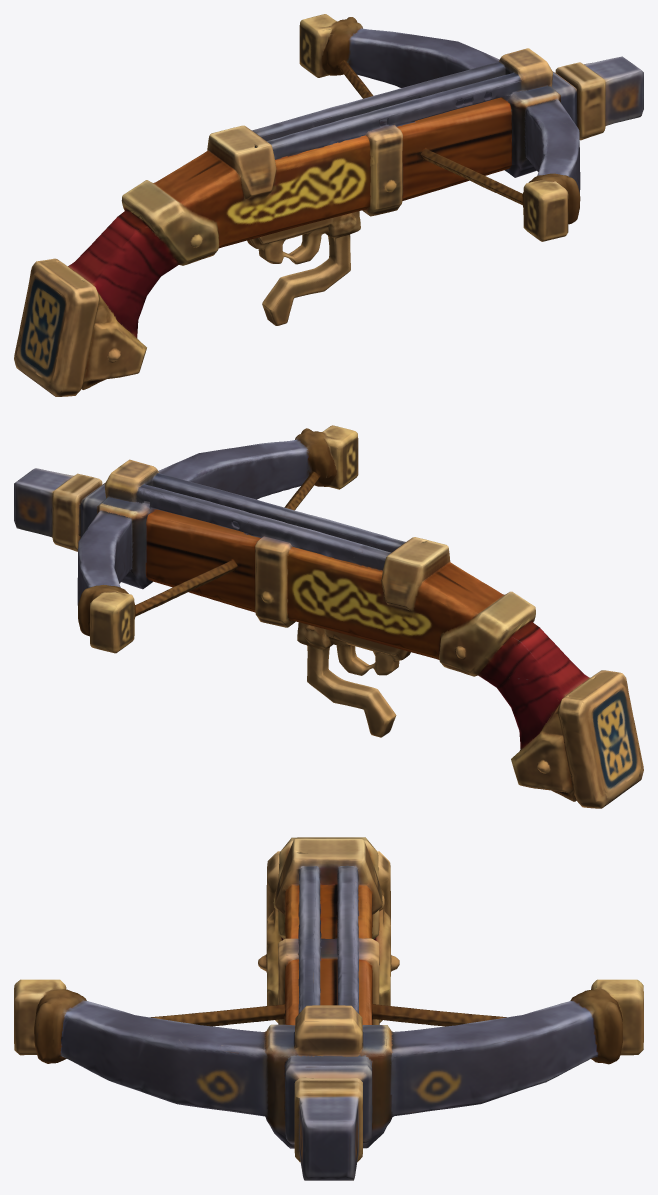
Rendered from 09_Siege_Crossbow.glb.
3 renders of one model, top to bottom at view 1: azimuth 30°, elevation 25°; view 2: azimuth 150°, elevation 25°; view 3: azimuth 270°, elevation 25°, orthographic. The views are drawn at different scales.
Visible parts, largest first — view 1: world; view 2: world; view 3: world.
Boxes of the visible parts, left/top/right/bottom form: world: left=14, top=14, right=643, bottom=396; world: left=14, top=425, right=643, bottom=808; world: left=14, top=837, right=643, bottom=1180.
Bounding box in the file's own units: 1 × 0.3326 × 0.704.
Materials: 1 (1 with a texture image).
